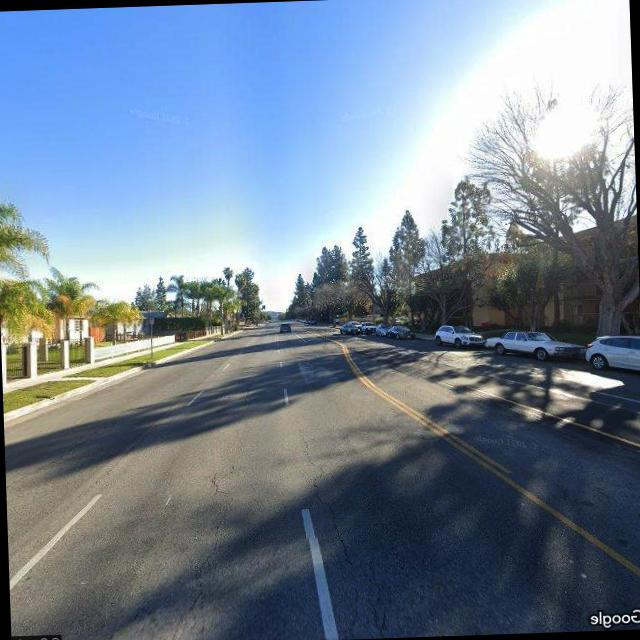pothole: (168, 463, 238, 640), (298, 424, 357, 573)
